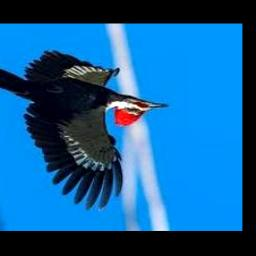Woodpecker: (0, 51, 168, 211)
